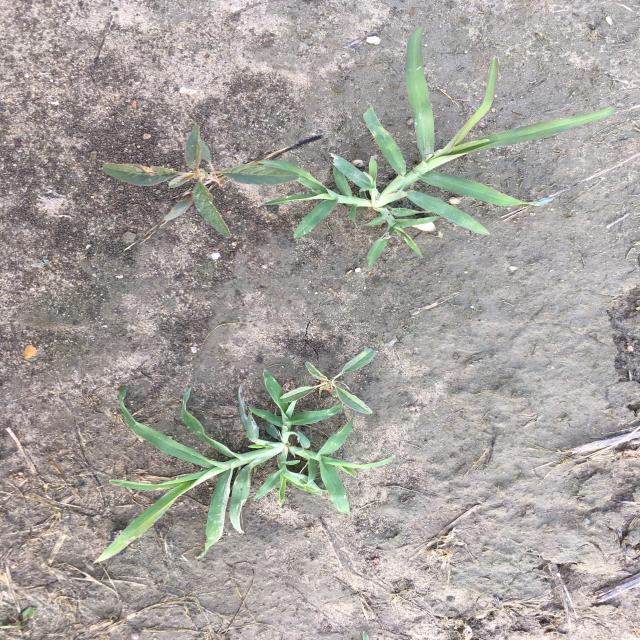Goosegrass: (255, 25, 619, 269), (91, 368, 398, 565)
Waterhemp: (100, 124, 302, 240)
